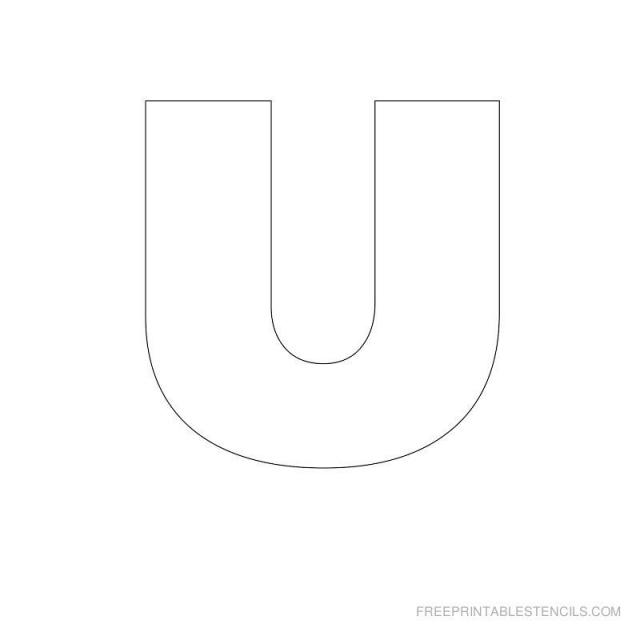U: (95, 54, 528, 492)
